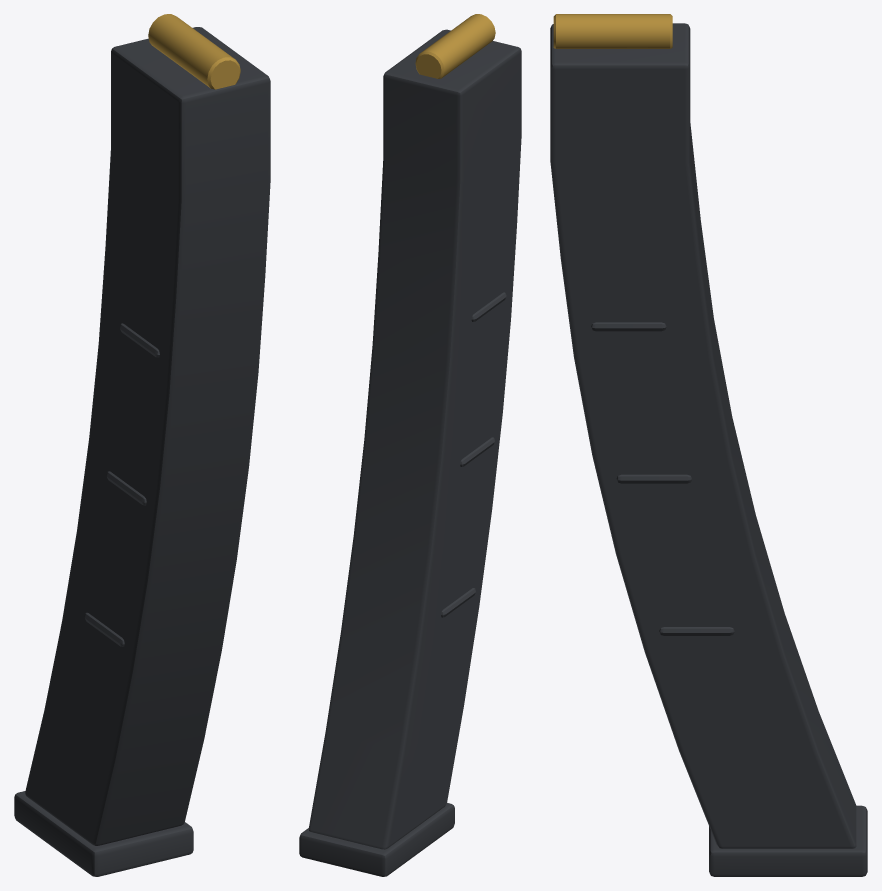
The model's file is mod_hush_extended_mag.glb.
3 renders of one model, left to right at view 1: azimuth 30°, elevation 25°; view 2: azimuth 150°, elevation 25°; view 3: azimuth 270°, elevation 25°, orthographic. The views are drawn at different scales.
Parts seen in each view (by area): view 1: Magazine, MagazineRound; view 2: Magazine, MagazineRound; view 3: Magazine, MagazineRound.
Part boxes in pixels (box(x1,y1,x2,y2)): Magazine: box(14, 27, 270, 876); MagazineRound: box(148, 14, 240, 89); Magazine: box(299, 29, 521, 876); MagazineRound: box(415, 14, 495, 78); Magazine: box(550, 23, 867, 876); MagazineRound: box(553, 14, 672, 48).
Size of the model in its own units: 0.0244 by 0.1984 by 0.068.
